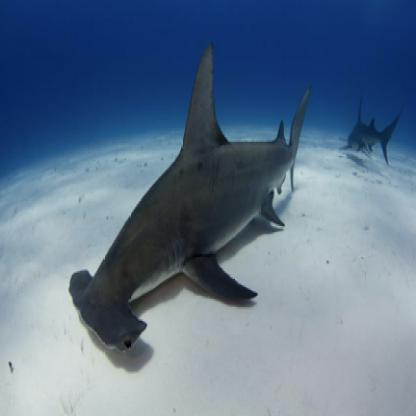Shark -Selachimorpha-: (69, 40, 318, 353), (340, 96, 405, 165)
